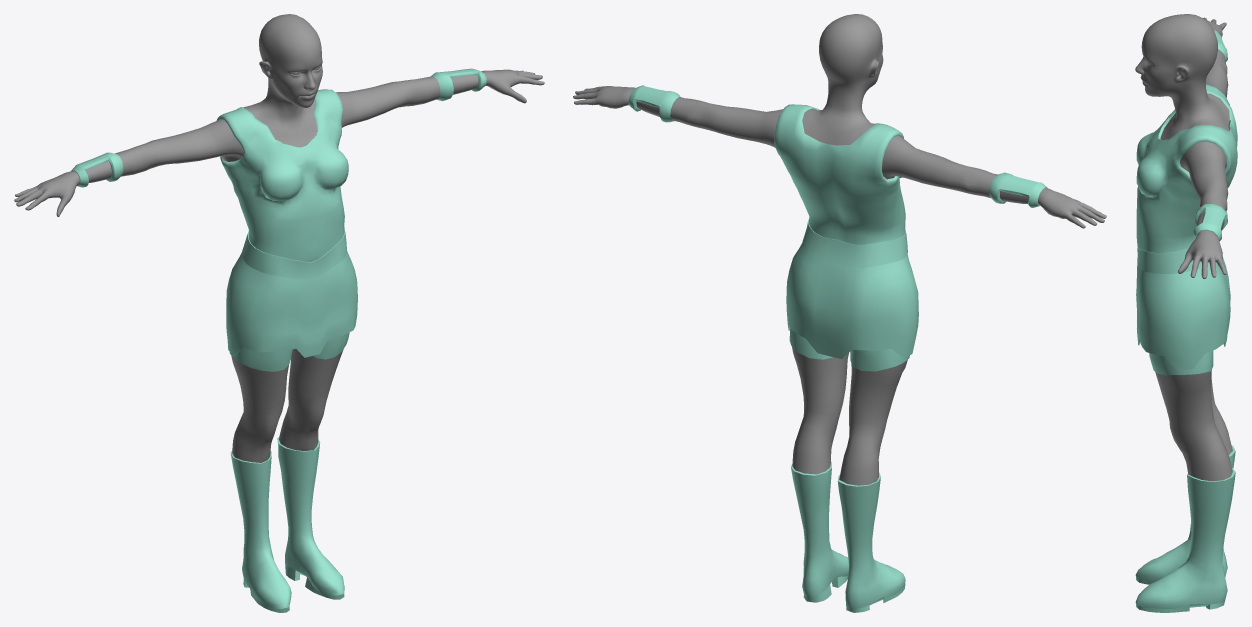
Rendered from FemaleAvatar.FBX.
The picture shows the model from 3 angles, left to right: view 1: azimuth 30°, elevation 25°; view 2: azimuth 150°, elevation 25°; view 3: azimuth 270°, elevation 25°; orthographic projection.
Visible parts, largest first — view 1: Vest&Clothes, Body, Head; view 2: Vest&Clothes, Body, Head; view 3: Vest&Clothes, Body, Head.
Boxes of the visible parts, left/top/right/bottom form: Vest&Clothes: left=71, top=68, right=486, bottom=612; Body: left=14, top=69, right=544, bottom=462; Head: left=243, top=14, right=322, bottom=147; Vest&Clothes: left=628, top=85, right=1047, bottom=612; Body: left=573, top=86, right=1106, bottom=485; Head: left=802, top=14, right=883, bottom=145; Vest&Clothes: left=1135, top=30, right=1237, bottom=612; Body: left=1155, top=17, right=1232, bottom=481; Head: left=1135, top=14, right=1229, bottom=140.
Size of the model in its own units: 169 by 175 by 28.18.
